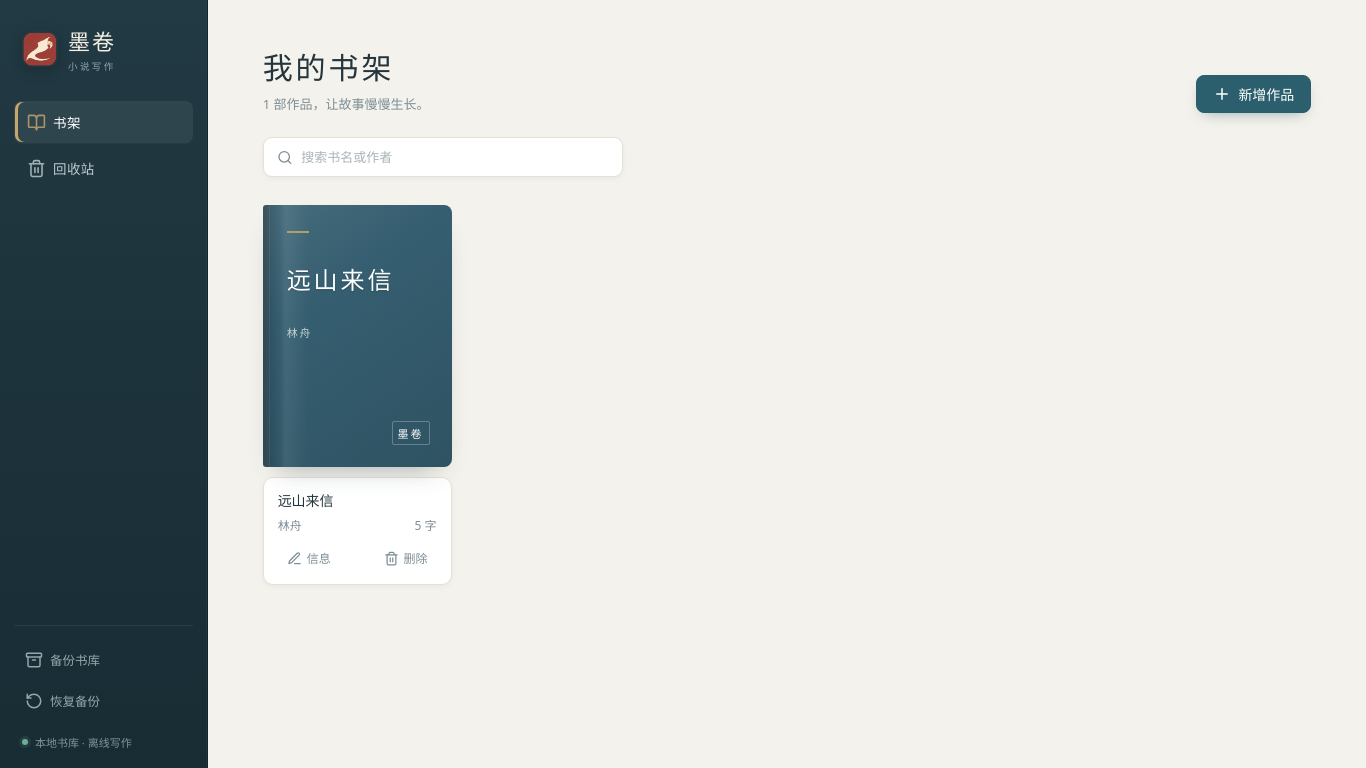
Test: writing workspace › opens a work and flushes draft before returning to shelf
The image size is (1366, 768).
Click the button with aria-label "打开 远山来信".
click(357, 336)  # box top-left (263, 205), bottom-right (452, 467)
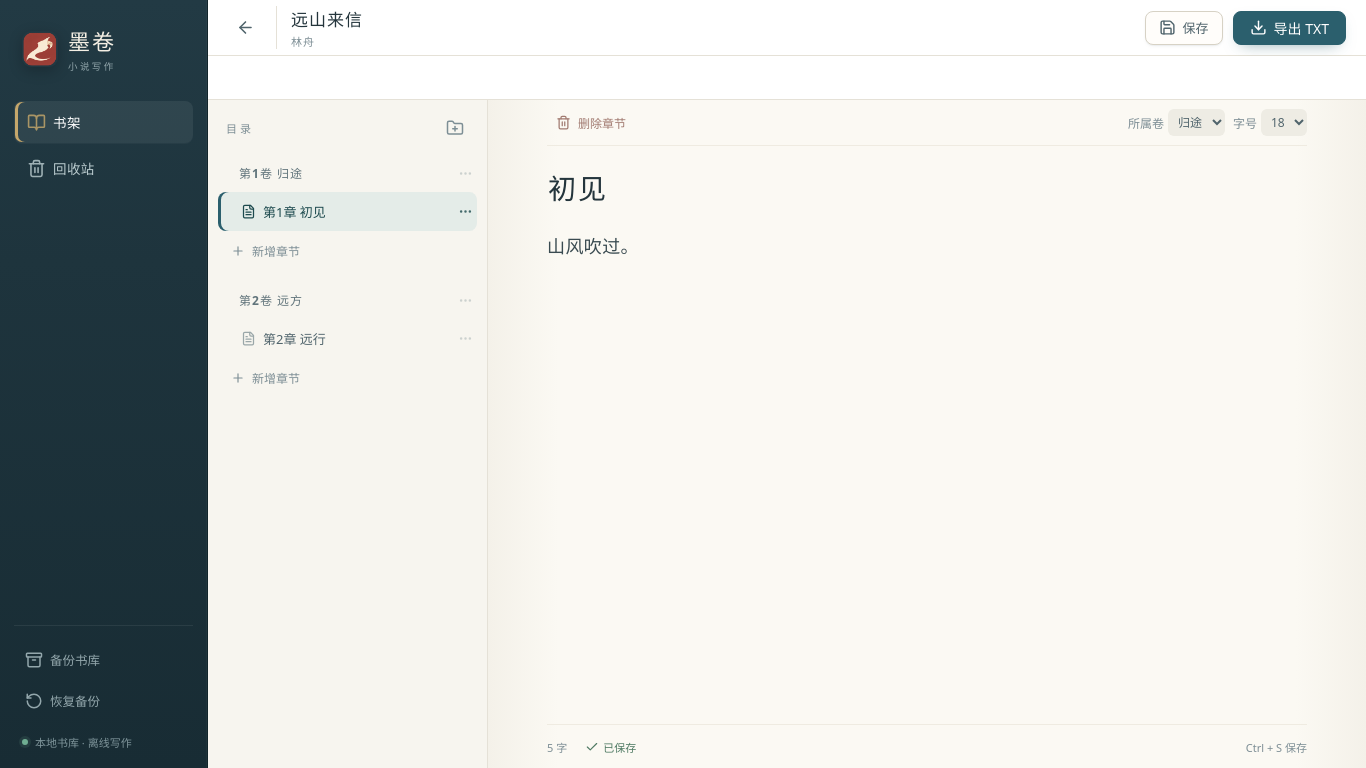
Replace the text in the text box named "章节正文" with "新的正文" at (927, 472), box top-left (547, 220), bottom-right (1307, 724)
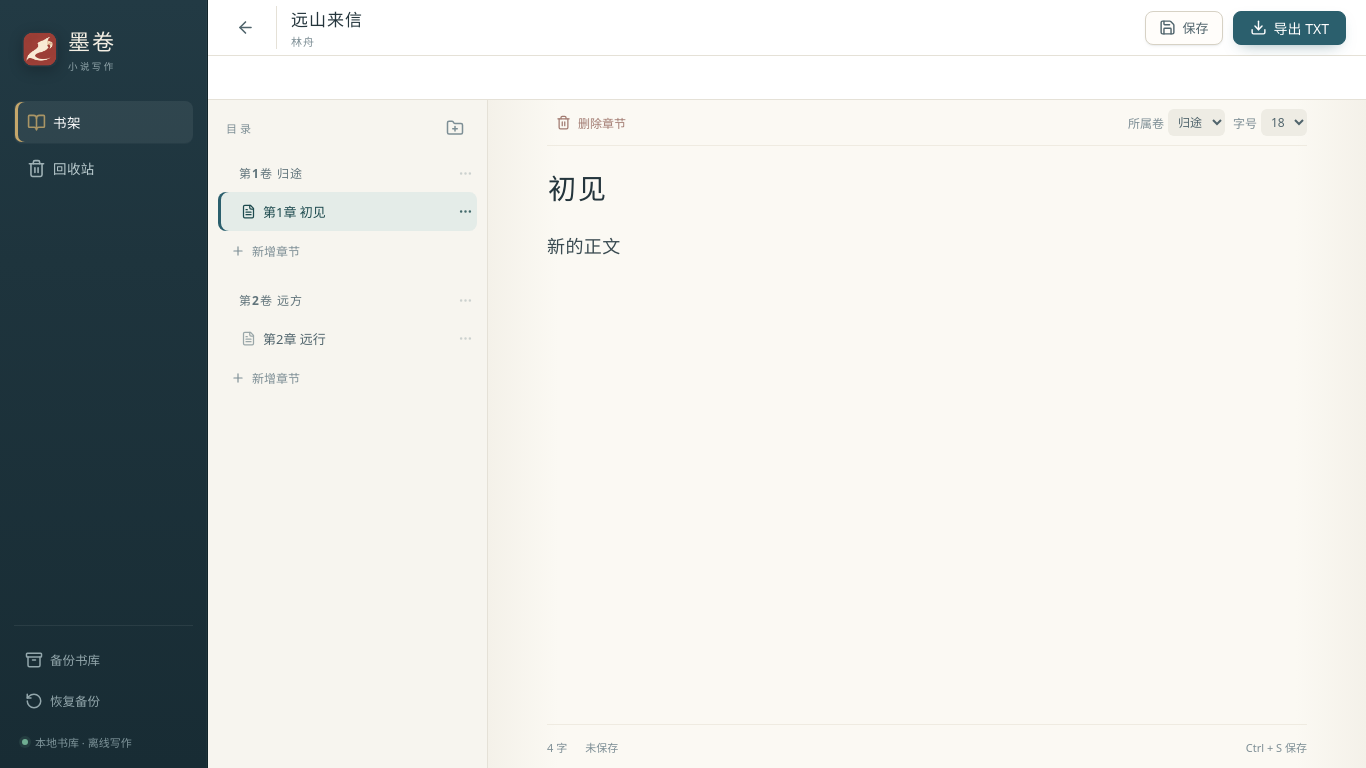
Click the button named "返回书架".
click(245, 28)  # box top-left (228, 10), bottom-right (262, 44)
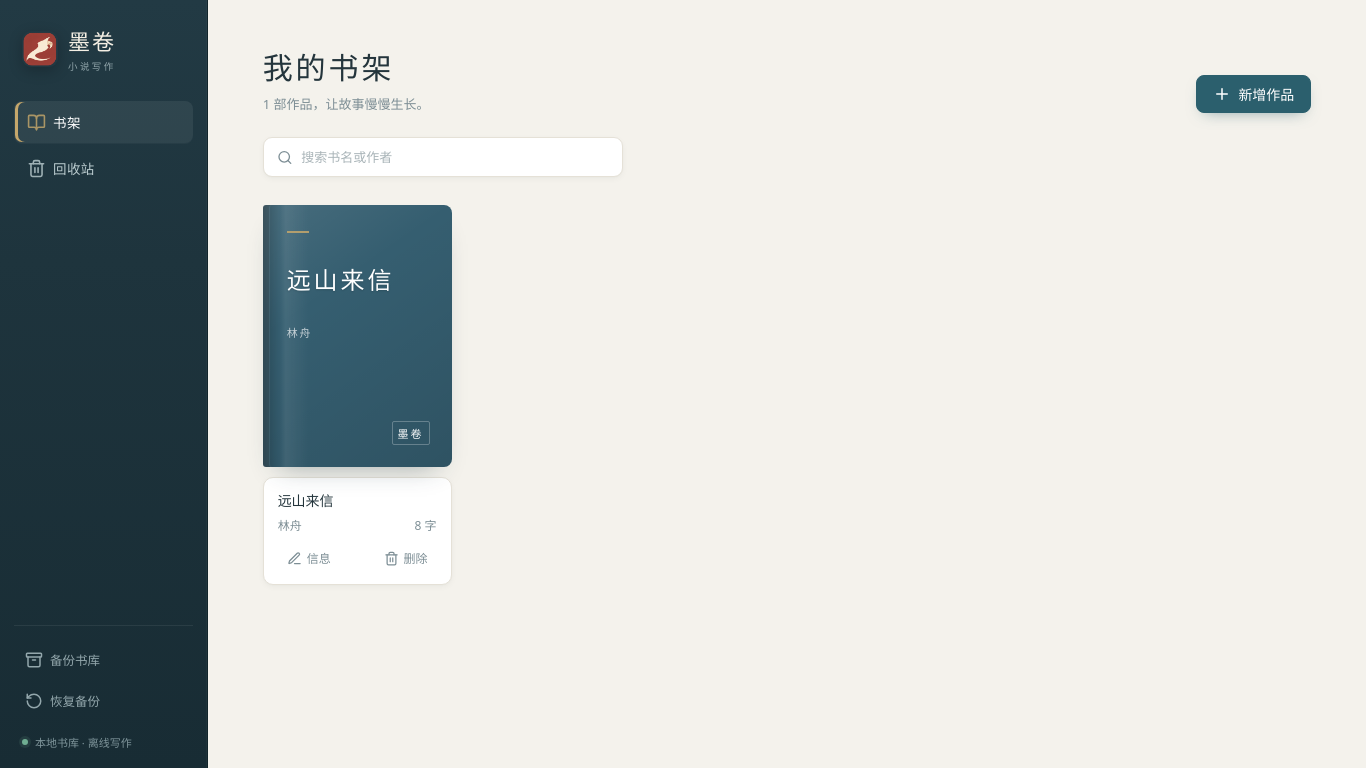
Check: the heading "我的书架" is shown, box top-left (263, 52), bottom-right (395, 85)
